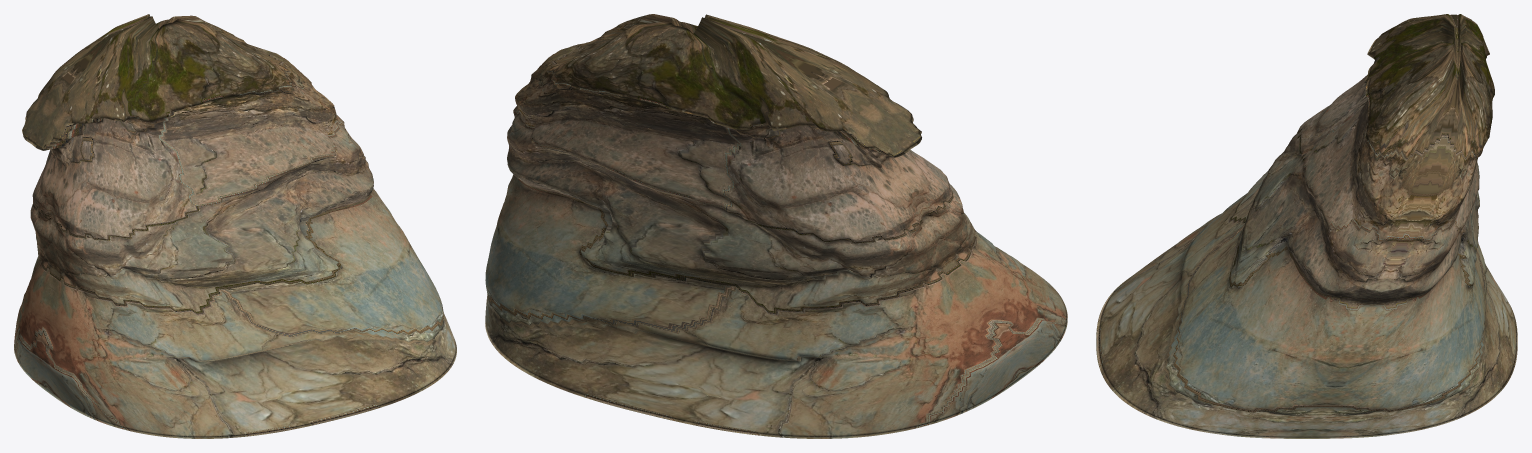
The model's file is corealm_scree_slide.glb.
3 renders of one model, left to right at view 1: azimuth 30°, elevation 25°; view 2: azimuth 150°, elevation 25°; view 3: azimuth 270°, elevation 25°, orthographic. The views are drawn at different scales.
Parts seen in each view (by area): view 1: corealm_scree_slide; view 2: corealm_scree_slide; view 3: corealm_scree_slide.
Part boxes in pixels (x1,y1,x2,y2): corealm_scree_slide: (14, 14, 456, 438); corealm_scree_slide: (485, 14, 1067, 438); corealm_scree_slide: (1096, 14, 1517, 438).
Bounding box in the file's own units: 6 × 4.38 × 5.44.
1 material, 1 textured.
